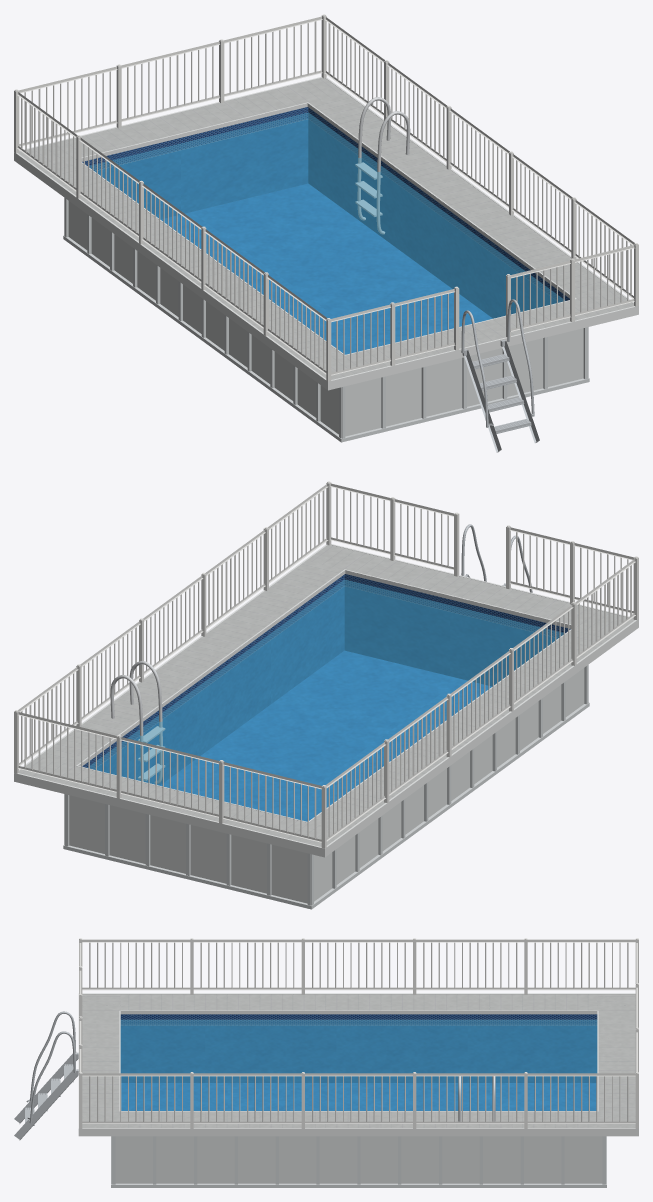
Rendered from kayak-pool-12x24-white-walk-ag-fence.e4524b0f87.glb.
3 views of the same model, one above another, from view 1: azimuth 30°, elevation 25°; view 2: azimuth 150°, elevation 25°; view 3: azimuth 270°, elevation 25° (orthographic). The views are drawn at different scales.
Visible parts, largest first — view 1: water, fence, liner_wall, deck, liner_floor, wall, fascia, upright, ladder, steel; view 2: water, fence, liner_wall, deck, liner_floor, wall, fascia, upright, steel, ladder; view 3: water, liner_wall, deck, fence, wall, liner_floor, fascia, upright, ladder.
Boxes of the visible parts, x1=… form: water: x1=89, y1=112, x2=565, y2=354; fence: x1=14, y1=14, x2=638, y2=381; liner_wall: x1=82, y1=107, x2=569, y2=318; deck: x1=18, y1=78, x2=633, y2=379; liner_floor: x1=161, y1=183, x2=492, y2=354; wall: x1=68, y1=201, x2=583, y2=436; fascia: x1=14, y1=77, x2=638, y2=390; upright: x1=63, y1=198, x2=589, y2=442; ladder: x1=461, y1=299, x2=539, y2=452; steel: x1=355, y1=97, x2=410, y2=234; water: x1=87, y1=579, x2=563, y2=821; fence: x1=14, y1=481, x2=638, y2=848; liner_wall: x1=82, y1=574, x2=570, y2=785; deck: x1=19, y1=545, x2=634, y2=846; liner_floor: x1=160, y1=650, x2=491, y2=821; wall: x1=69, y1=668, x2=584, y2=903; fascia: x1=14, y1=544, x2=638, y2=857; upright: x1=63, y1=665, x2=589, y2=909; steel: x1=110, y1=661, x2=165, y2=784; ladder: x1=461, y1=524, x2=532, y2=592; water: x1=120, y1=1019, x2=597, y2=1110; liner_wall: x1=120, y1=1014, x2=597, y2=1082; deck: x1=82, y1=994, x2=635, y2=1127; fence: x1=79, y1=938, x2=638, y2=1128; wall: x1=115, y1=1136, x2=602, y2=1183; liner_floor: x1=121, y1=1083, x2=596, y2=1110; fascia: x1=78, y1=993, x2=638, y2=1136; upright: x1=111, y1=1136, x2=606, y2=1187; ladder: x1=14, y1=1011, x2=78, y2=1140.
Size of the model in its own units: 4.88 by 2.15 by 9.52.
Materials: 11 (3 with a texture image).
